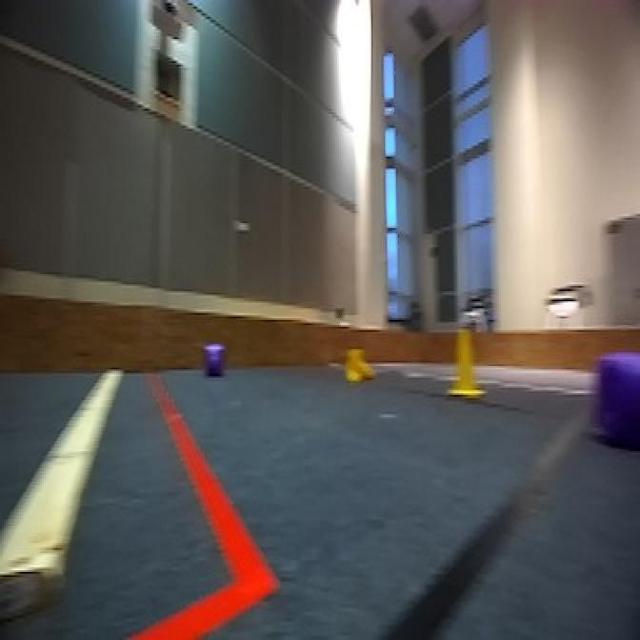frc_cone: (444, 324, 485, 398), (341, 344, 377, 385)
frc_cube: (595, 330, 640, 458), (203, 342, 225, 380)
